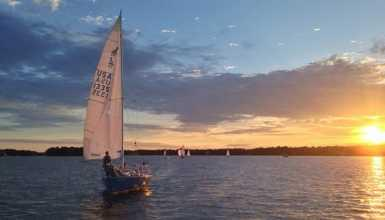fanchuan: (79, 8, 155, 194)
